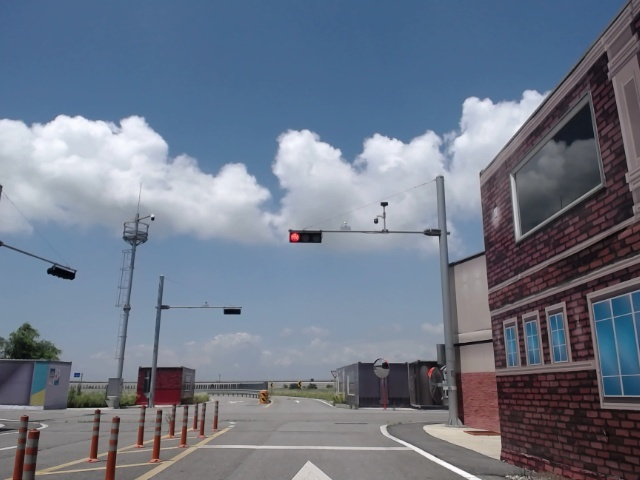red_3: (287, 230, 324, 245)
